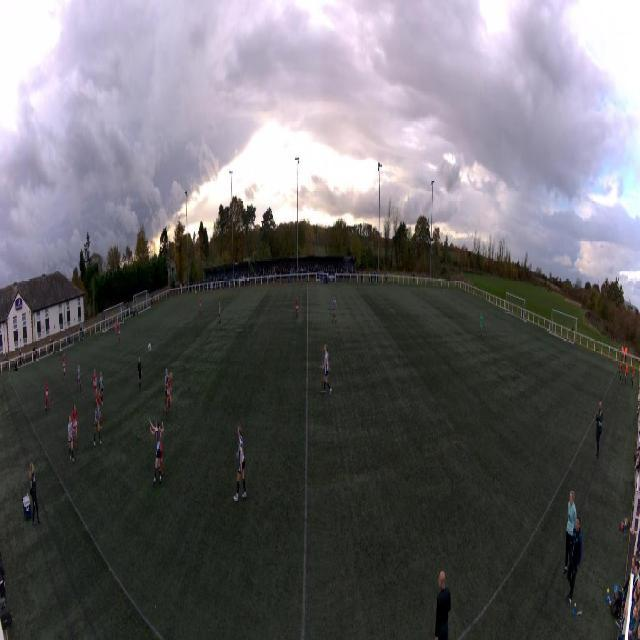ball: (148, 343, 152, 352)
player: (233, 425, 248, 503), (150, 419, 166, 485), (319, 344, 333, 393), (93, 401, 102, 449), (67, 414, 74, 465), (72, 402, 79, 450), (166, 373, 172, 417), (98, 373, 104, 407), (44, 379, 50, 411), (164, 367, 169, 405), (93, 367, 98, 404), (138, 356, 143, 391), (77, 365, 82, 393), (332, 296, 337, 323), (62, 354, 66, 380), (479, 313, 483, 338), (295, 297, 299, 319), (218, 302, 221, 327), (118, 324, 121, 344), (115, 319, 118, 335), (200, 297, 202, 315)
